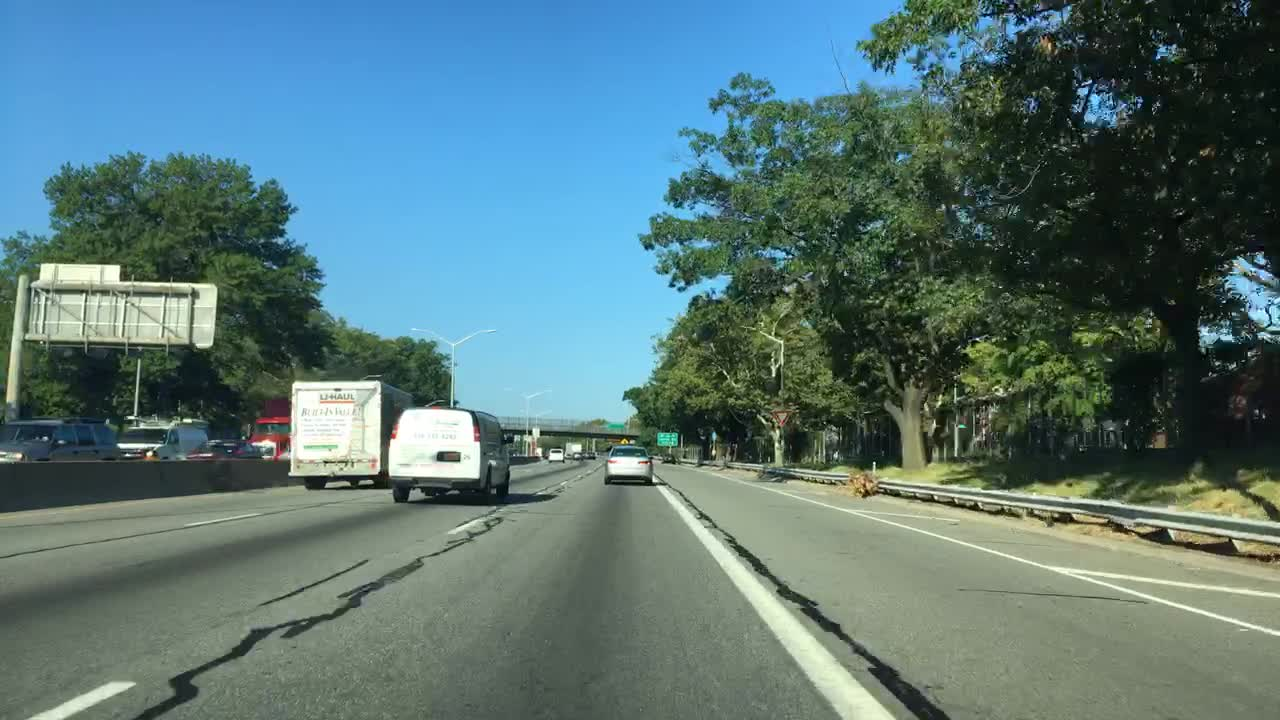car: (389, 403, 516, 501), (2, 416, 122, 466), (602, 445, 655, 486), (207, 436, 259, 460), (547, 446, 563, 462), (585, 446, 596, 461), (570, 451, 585, 461)
traffic sign: (37, 263, 118, 343), (122, 280, 217, 346), (769, 406, 793, 426), (653, 431, 677, 449), (601, 419, 623, 430)
truck: (289, 376, 410, 491), (113, 416, 212, 460), (242, 396, 291, 459)
